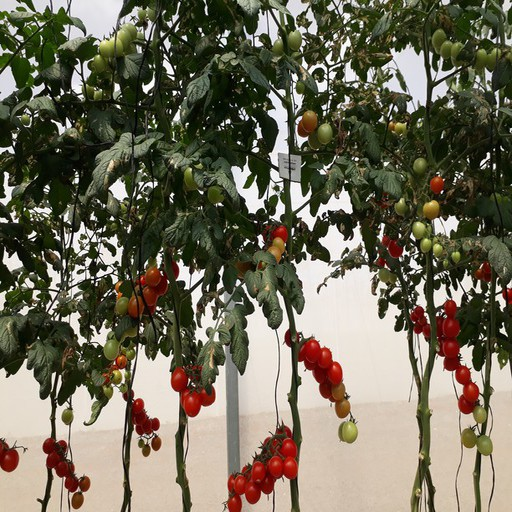green tomato bunch: (85, 21, 143, 106), (431, 30, 512, 74), (272, 20, 309, 94), (171, 158, 227, 202), (96, 343, 136, 400), (412, 220, 459, 266), (296, 108, 336, 150), (385, 114, 429, 137)
mixed tomato bunch: (115, 263, 180, 318), (252, 225, 288, 268)
red tomato bunch: (228, 426, 299, 512), (432, 299, 480, 413), (286, 325, 343, 401), (41, 437, 92, 509), (173, 364, 216, 417), (124, 391, 159, 437), (372, 235, 404, 269), (410, 303, 431, 339)
